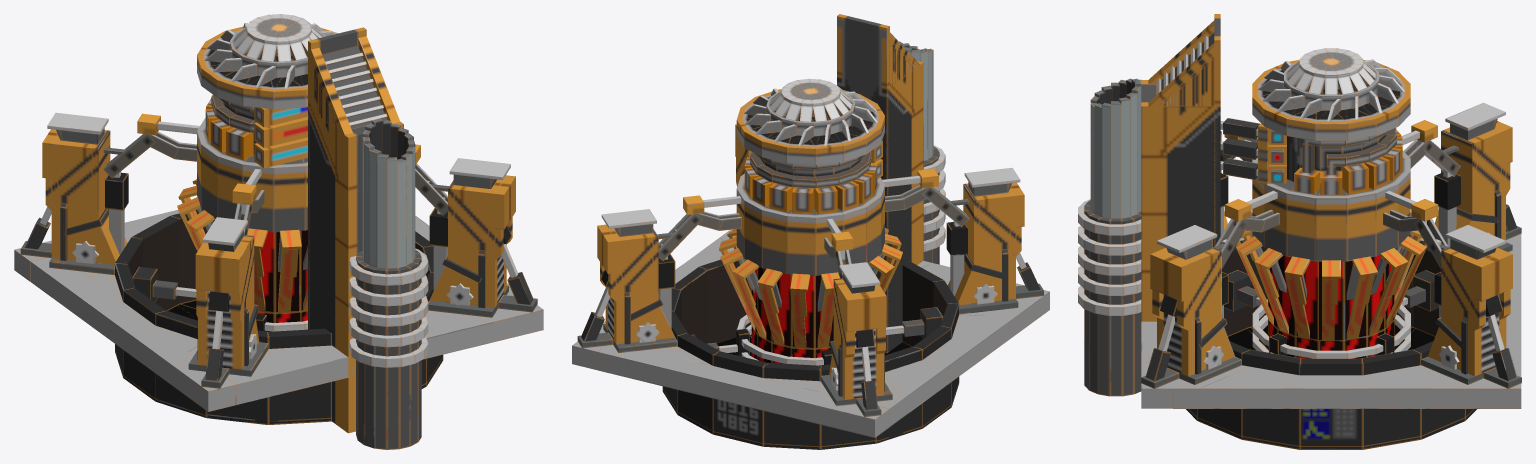
Rendered from vein_miner_mk3_2.obj.
3 renders of one model, left to right at view 1: azimuth 30°, elevation 25°; view 2: azimuth 150°, elevation 25°; view 3: azimuth 270°, elevation 25°, orthographic. The views are drawn at different scales.
Visible parts, largest first — view 1: hexadecagon, cube; view 2: hexadecagon, cube; view 3: hexadecagon, cube.
Boxes of the visible parts, x1,y1,x2,y2 form: hexadecagon: [115, 14, 443, 449]; cube: [14, 107, 543, 411]; hexadecagon: [662, 14, 959, 449]; cube: [572, 124, 1049, 437]; hexadecagon: [1078, 14, 1476, 449]; cube: [1141, 102, 1521, 408].
Bounding box in the file's own units: 7.52 × 7.75 × 8.76.
